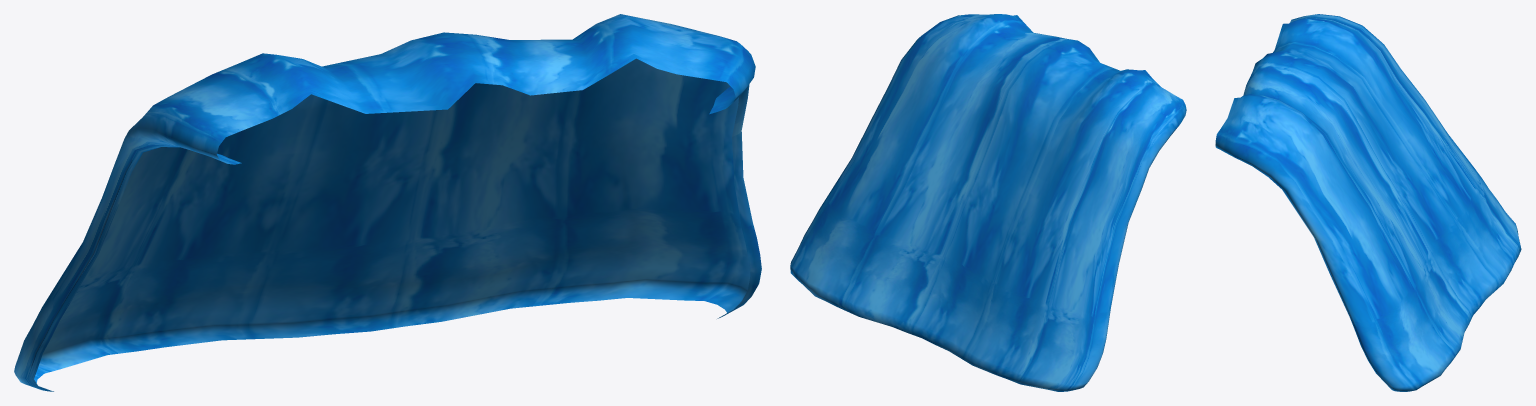
The model's file is WatervalShortMesh.fbx.
The picture shows the model from 3 angles, left to right: view 1: azimuth 30°, elevation 25°; view 2: azimuth 150°, elevation 25°; view 3: azimuth 270°, elevation 25°; orthographic projection. The views are drawn at different scales.
Parts seen in each view (by area): view 1: WatervalShortPlane; view 2: WatervalShortPlane; view 3: WatervalShortPlane.
Part boxes in pixels (x1,y1,x2,y2): WatervalShortPlane: (14,14,761,391); WatervalShortPlane: (790,14,1186,391); WatervalShortPlane: (1215,14,1521,391).
Bounding box in the file's own units: 47.63 × 30.52 × 36.
Materials: 1 (1 with a texture image).
